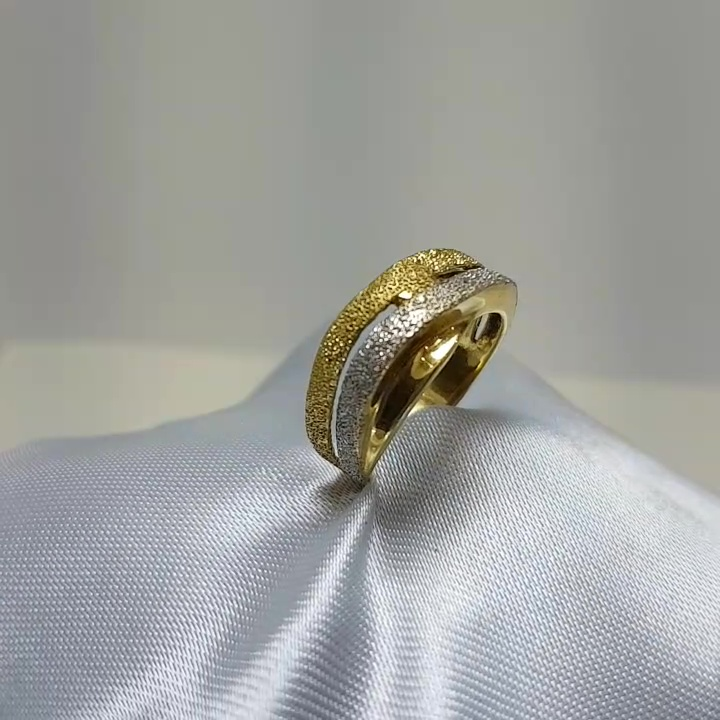Ring 5: (267, 245, 526, 505)
